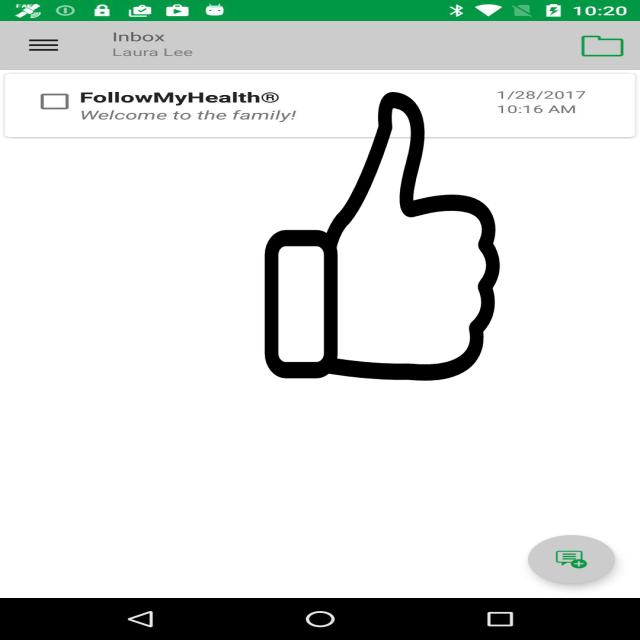privacy zuckering: (261, 92, 503, 381)
